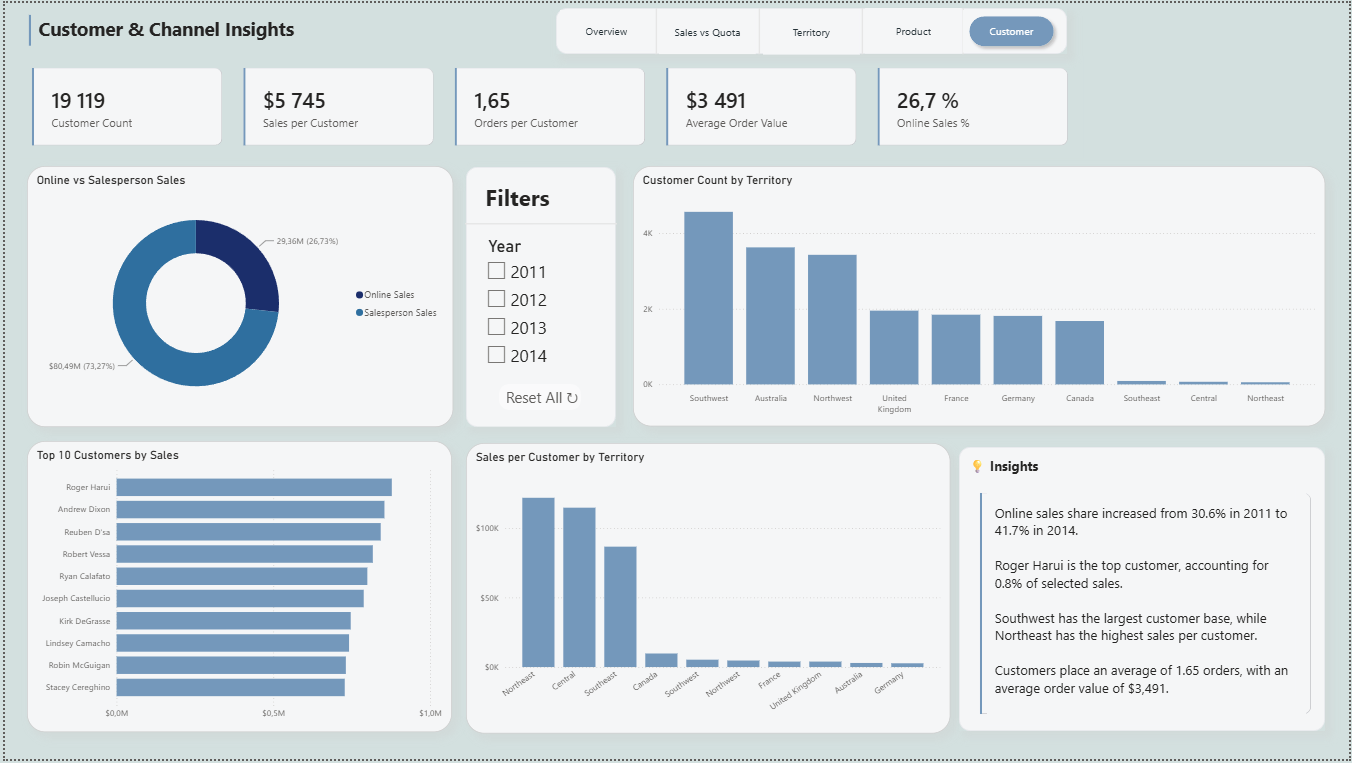

The dashboard page shown, as its layout file describes it:
{"tool":"powerbi","page":{"name":"5: Customer &  Channel Insights","canvas":[1920,1080],"ordinal":4},"visuals":[{"type":"group","id":"g1","title":"Group 4","box":[793.2,7.5,714.9,66.2],"z":0,"group":"g5"},{"type":"shape","box":[787.1,7.7,730,65.6],"z":0,"group":"g6"},{"type":"actionButton","title":"Sales vs Quota","box":[934.9,10.3,138.4,62.6],"z":0,"group":"g1"},{"type":"shape","box":[1362.3,634.3,522.7,405.7],"z":0,"group":"g3"},{"type":"shape","box":[0,0,1920,1080],"z":500},{"type":"shape","box":[924.9,7.1,12.5,66],"z":1000,"group":"g5"},{"type":"actionButton","title":"Sales vs Quota","box":[1083.1,8.4,138.2,65.3],"z":1000,"group":"g1"},{"type":"cardVisual","fields":{"Data":["Measures (2).Customer Count","Measures (2).Sales per Customer","Measures (2).Orders per Customer","Measures (2).Average Order Value","Measures (2).Online Sales %"]},"box":[21.4,75.7,1518.6,145.7],"z":1000},{"type":"shape","box":[658.5,234.3,213.9,371.4],"z":1000,"group":"g2"},{"type":"textbox","box":[1371.1,642.9,312.9,39.8],"z":1000,"group":"g3"},{"type":"shape","box":[1072.1,7.5,12.5,66.2],"z":2000,"group":"g5"},{"type":"actionButton","title":"Sales vs Quota","box":[793.2,10.8,132.9,57.9],"z":2000,"group":"g1"},{"type":"donutChart","title":"Online vs Salesperson Sales","fields":{"Y":["Measures (2).Online Sales","Measures (2).Salesperson Sales"]},"box":[31,232.9,608.6,372.9],"z":2000},{"type":"shape","box":[1218.9,7.5,12.5,66.2],"z":3000,"group":"g5"},{"type":"actionButton","title":"Sales vs Quota","box":[1228.2,7.5,138.3,65],"z":3000,"group":"g1"},{"type":"columnChart","title":"Customer Count by Territory","fields":{"Category":["dim_territory.TerritoryName"],"Y":["Measures (2).Customer Count"]},"box":[897.1,232.9,988.6,372],"z":3000},{"type":"actionButton","title":"Sales vs Quota","box":[1369.5,10.5,138.6,60.7],"z":4000,"group":"g1"},{"type":"columnChart","title":"Sales per Customer by Territory","fields":{"Category":["dim_territory.TerritoryName"],"Y":["Measures (2).Sales per Customer"]},"box":[658.2,628.7,691.8,415.1],"z":4000},{"type":"barChart","title":"Top 10 Customers by Sales","fields":{"Category":["dim_customer.CustomerName"],"Y":["Measures (2).Total Sales"]},"box":[31,625.7,607.1,415.7],"z":5000},{"type":"slicer","fields":{"Values":["dim_date.Year"]},"box":[677,329.1,164.2,206.7],"z":6000,"group":"g2"},{"type":"shape","box":[712.9,537.1,94.3,41.4],"z":6000},{"type":"group","id":"g2","title":"Group 1","box":[657.4,234.3,217.1,371.4],"z":7000},{"type":"textbox","box":[676.3,250.2,141.5,59.2],"z":8000,"group":"g2"},{"type":"group","id":"g3","title":"Group 2","box":[1362.3,634.3,522.5,405.7],"z":8000},{"type":"cardVisual","fields":{"Data":["Text.Sales reached $109,85M"]},"box":[16.8,0.5,406.8,78.2],"z":9000},{"type":"group","id":"g4","title":"Group 6","box":[793.2,7.1,714.9,66.8],"z":9000,"group":"g6"},{"type":"shape","box":[1363,7.6,12.3,66.4],"z":9000,"group":"g4"},{"type":"actionButton","title":"Reset All   ↻","box":[705.5,543.9,117.1,37.1],"z":9000,"group":"g2"},{"type":"group","id":"g5","title":"Group 5","box":[793.2,7.1,714.9,66.6],"z":10000,"group":"g4"},{"type":"textbox","box":[42.9,13.1,388.4,53.2],"z":10000},{"type":"shape","box":[657.4,288.4,217.1,53.6],"z":10000,"group":"g2"},{"type":"cardVisual","fields":{"Data":["Text.P4 - Product Summary"]},"box":[1375.5,682.4,507.8,350.6],"z":11000},{"type":"tableEx","fields":{"Values":["Insights.Insight P5 - Customer Narrative"]},"box":[1403.5,681.9,455.7,351.4],"z":12000},{"type":"group","id":"g6","title":"Group 7","box":[787.1,7.1,730,66.8],"z":13000}]}

Visuals, with their boxes in screenshot pixels (x1, y1, x2, y2), scaled from the page's 1920x1080 canvas onto the 1352x763 screenshot:
"Group 4" group: pyautogui.locateOnScreen(559, 5, 1062, 52)
shape: pyautogui.locateOnScreen(554, 5, 1068, 52)
"Sales vs Quota" actionButton: pyautogui.locateOnScreen(658, 7, 756, 52)
shape: pyautogui.locateOnScreen(959, 448, 1327, 735)
shape: pyautogui.locateOnScreen(0, 0, 1351, 762)
shape: pyautogui.locateOnScreen(651, 5, 660, 52)
"Sales vs Quota" actionButton: pyautogui.locateOnScreen(763, 6, 860, 52)
cardVisual - Measures (2).Customer Count x Measures (2).Sales per Customer: pyautogui.locateOnScreen(15, 53, 1084, 156)
shape: pyautogui.locateOnScreen(464, 166, 614, 428)
textbox: pyautogui.locateOnScreen(965, 454, 1186, 482)
shape: pyautogui.locateOnScreen(755, 5, 764, 52)
"Sales vs Quota" actionButton: pyautogui.locateOnScreen(559, 8, 652, 49)
"Online vs Salesperson Sales" donutChart: pyautogui.locateOnScreen(22, 165, 450, 428)
shape: pyautogui.locateOnScreen(858, 5, 867, 52)
"Sales vs Quota" actionButton: pyautogui.locateOnScreen(865, 5, 962, 51)
"Customer Count by Territory" columnChart: pyautogui.locateOnScreen(632, 165, 1328, 427)
"Sales vs Quota" actionButton: pyautogui.locateOnScreen(964, 7, 1062, 50)
"Sales per Customer by Territory" columnChart: pyautogui.locateOnScreen(463, 444, 951, 737)
"Top 10 Customers by Sales" barChart: pyautogui.locateOnScreen(22, 442, 449, 736)
slicer - dim_date.Year: pyautogui.locateOnScreen(477, 233, 592, 379)
shape: pyautogui.locateOnScreen(502, 379, 568, 409)
"Group 1" group: pyautogui.locateOnScreen(463, 166, 616, 428)
textbox: pyautogui.locateOnScreen(476, 177, 576, 219)
"Group 2" group: pyautogui.locateOnScreen(959, 448, 1327, 735)
cardVisual - Text.Sales reached $109,85M: pyautogui.locateOnScreen(12, 0, 298, 56)
"Group 6" group: pyautogui.locateOnScreen(559, 5, 1062, 52)
shape: pyautogui.locateOnScreen(960, 5, 968, 52)
"Reset All   ↻" actionButton: pyautogui.locateOnScreen(497, 384, 579, 410)
"Group 5" group: pyautogui.locateOnScreen(559, 5, 1062, 52)
textbox: pyautogui.locateOnScreen(30, 9, 304, 47)
shape: pyautogui.locateOnScreen(463, 204, 616, 242)
cardVisual - Text.P4 - Product Summary: pyautogui.locateOnScreen(969, 482, 1326, 730)
tableEx - Insights.Insight P5 - Customer Narrative: pyautogui.locateOnScreen(988, 482, 1309, 730)
"Group 7" group: pyautogui.locateOnScreen(554, 5, 1068, 52)
